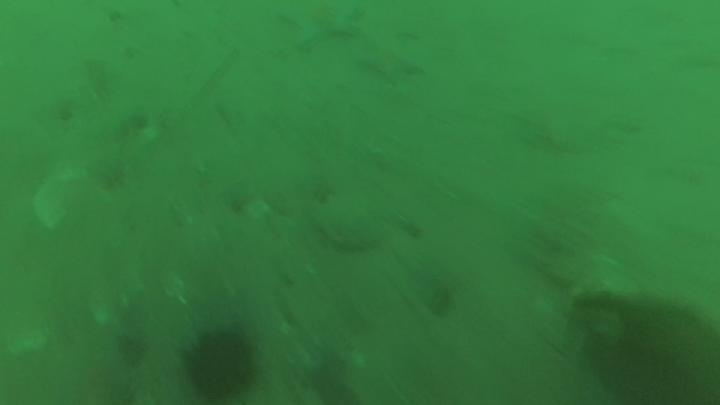echinus: (179, 326, 261, 403)
scallop: (31, 169, 108, 236)
starfish: (274, 1, 365, 52), (355, 41, 426, 88)
